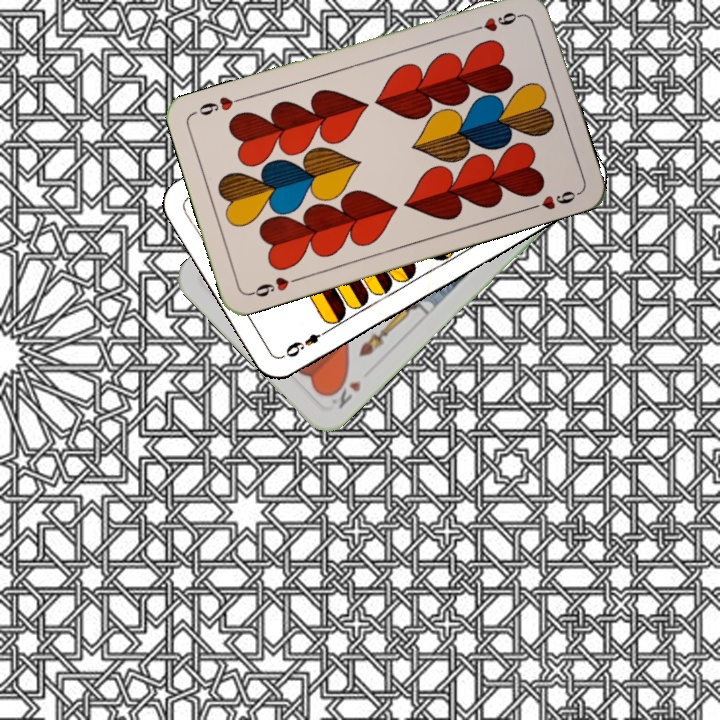E9: (281, 324, 333, 360)
H9: (245, 272, 303, 300), (468, 8, 526, 35)
HK: (322, 372, 364, 412)
